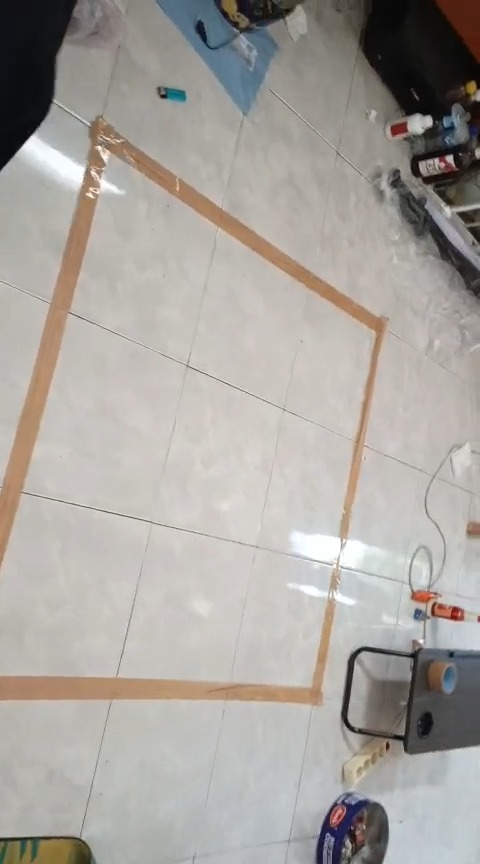floor marking: (0, 117, 386, 567), (0, 558, 339, 703)
